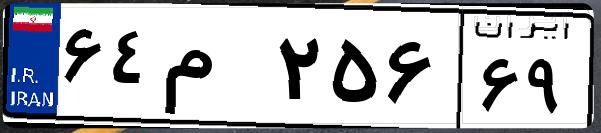2: (270, 28, 330, 110)
4: (110, 28, 158, 98)
5: (330, 28, 385, 110)
6: (385, 28, 445, 110), (57, 26, 110, 100), (475, 38, 525, 113)
9: (525, 38, 570, 115)
م: (158, 20, 270, 120)
